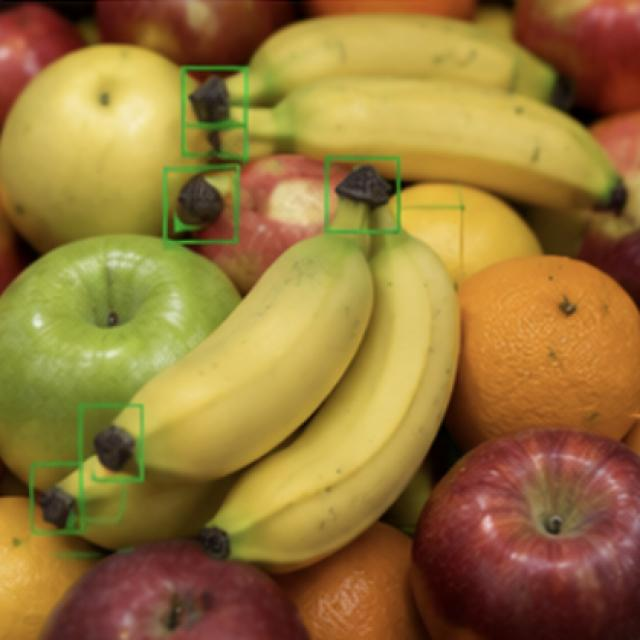Fruit-Stem-Detection: (321, 167, 414, 276), (174, 60, 262, 155), (76, 393, 162, 481), (160, 162, 232, 256)
